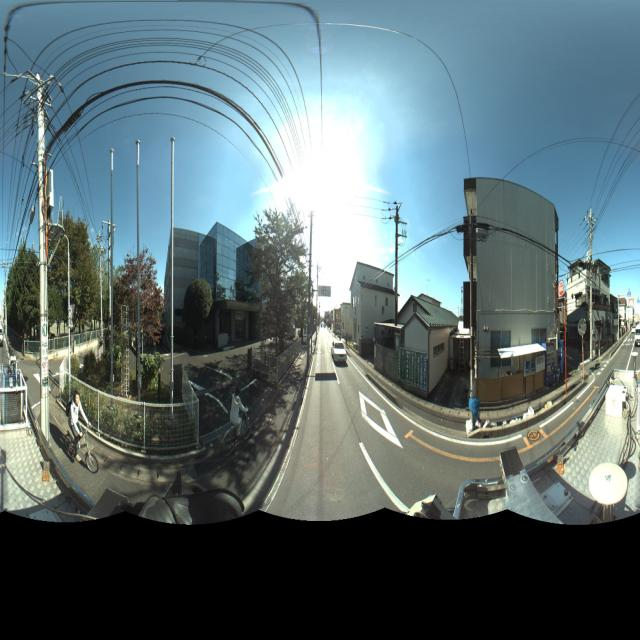b_1: (458, 155, 563, 387), (350, 252, 401, 359), (568, 240, 614, 355)
b_2: (162, 216, 298, 362)
